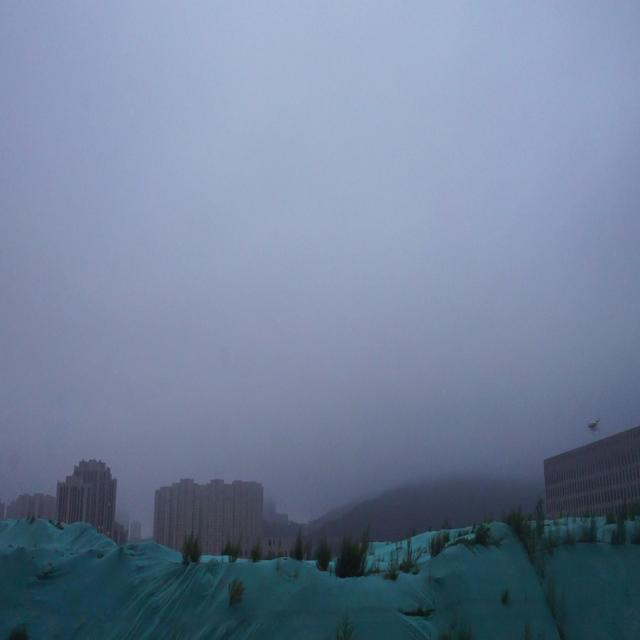UAV: (587, 420, 598, 432)
